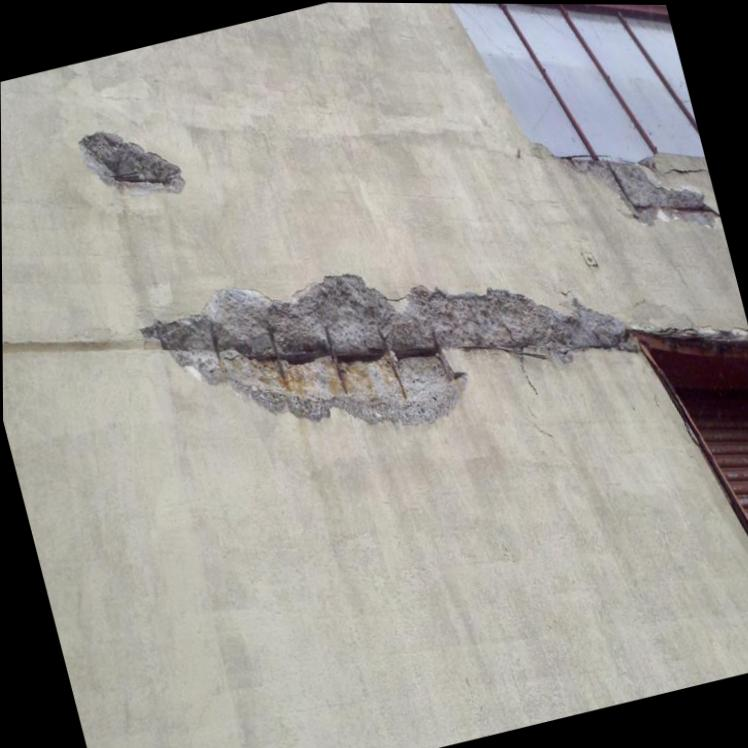crack: (521, 355, 537, 396), (665, 167, 709, 174)
damage: (141, 274, 637, 425), (566, 158, 720, 222), (78, 131, 185, 190)
